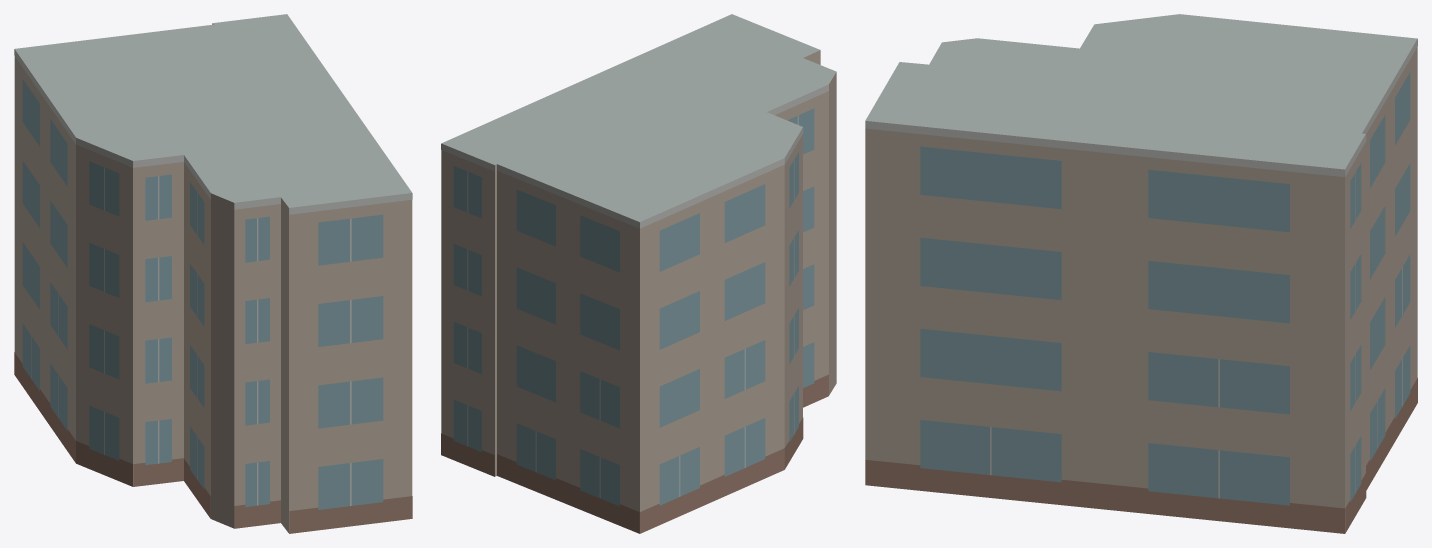
Rendered from survey-upis-32618258.glb.
The picture shows the model from 3 angles, left to right: view 1: azimuth 30°, elevation 25°; view 2: azimuth 150°, elevation 25°; view 3: azimuth 270°, elevation 25°; orthographic projection. The views are drawn at different scales.
Visible parts, largest first — view 1: survey-upis-32618258.tmp; view 2: survey-upis-32618258.tmp; view 3: survey-upis-32618258.tmp.
Boxes of the visible parts, left/top/right/bottom form: survey-upis-32618258.tmp: left=14, top=14, right=412, bottom=533; survey-upis-32618258.tmp: left=441, top=14, right=836, bottom=533; survey-upis-32618258.tmp: left=865, top=14, right=1417, bottom=533.
Bounding box in the file's own units: 10.67 × 11.64 × 16.01.
